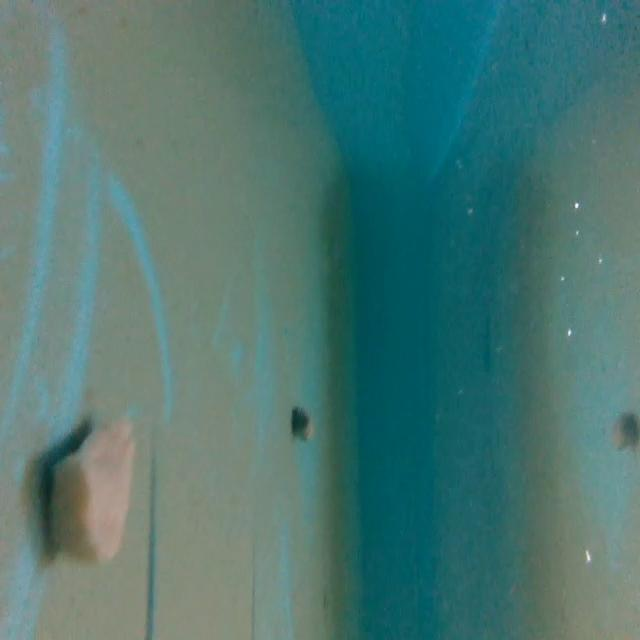rock: (33, 412, 141, 570), (288, 399, 315, 445)
